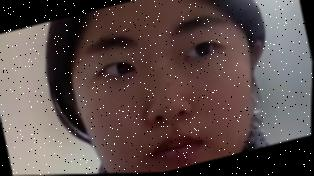eye: (195, 42, 212, 57), (116, 61, 132, 75)
iris: (96, 59, 137, 82), (184, 39, 224, 62)
